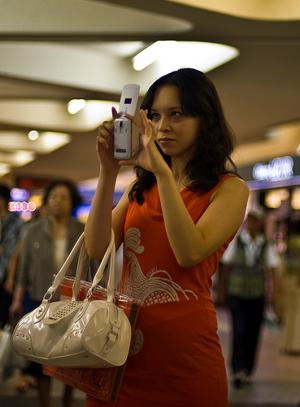person: (85, 67, 250, 405)
